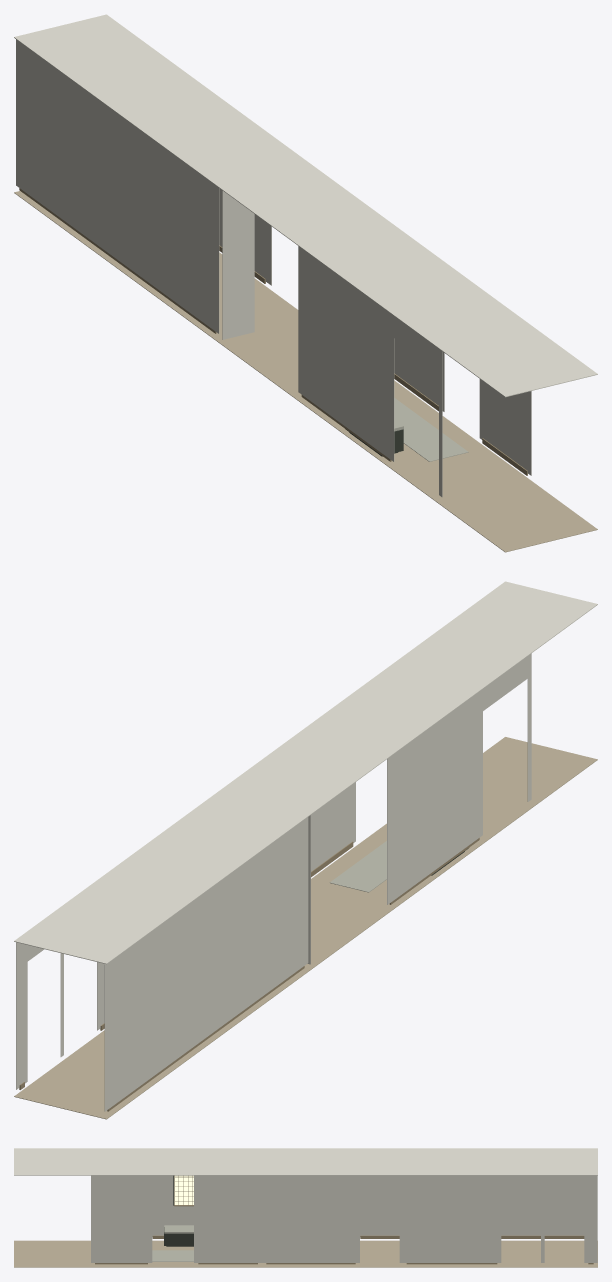
The model's file is corridor-2.glb.
The picture shows the model from 3 angles, top to bottom: view 1: azimuth 30°, elevation 25°; view 2: azimuth 150°, elevation 25°; view 3: azimuth 270°, elevation 25°; orthographic projection. The views are drawn at different scales.
Parts seen in each view (by area): view 1: DESIGN | Entrance coordinated ceiling, DESIGN | Entrance paired wall finish, DESIGN | Entrance floor finish, DESIGN | Entrance paired wall finish.003, DESIGN | Arch approach finish, DESIGN | Entrance paired wall finish.013, DESIGN | Entrance quiet runner, DESIGN | Entrance paired wall finish.012, DESIGN | Entrance paired wall finish.006, DESIGN | Entrance paired wall finish.002; view 2: DESIGN | Entrance coordinated ceiling, DESIGN | Entrance paired wall finish, DESIGN | Entrance floor finish, DESIGN | Entrance paired wall finish.003, DESIGN | Entrance paired wall finish.012, DESIGN | Entrance paired wall finish.005, DESIGN | Entrance quiet runner, DESIGN | Entrance paired wall finish.002, DESIGN | Entrance paired wall finish.001; view 3: DESIGN | Entrance coordinated ceiling, DESIGN | Entrance paired wall finish.006, DESIGN | Entrance paired wall finish.009, DESIGN | Entrance floor finish, DESIGN | Entrance paired wall finish.012, DESIGN | Entrance paired wall finish, DESIGN | Entrance paired wall finish.013, DESIGN | Entrance paired wall finish.003, DESIGN | Entrance paired wall finish.005, DESIGN | Entrance paired wall finish.007, DESIGN | Entrance paired wall finish.010, DESIGN | Entrance paired wall finish.004 (+8 smaller).
Boxes of the visible parts, left/top/right/bottom form: DESIGN | Entrance coordinated ceiling: left=14, top=14, right=597, bottom=397; DESIGN | Entrance paired wall finish: left=16, top=39, right=219, bottom=333; DESIGN | Entrance floor finish: left=14, top=191, right=597, bottom=552; DESIGN | Entrance paired wall finish.003: left=298, top=246, right=394, bottom=461; DESIGN | Arch approach finish: left=222, top=190, right=254, bottom=339; DESIGN | Entrance paired wall finish.013: left=479, top=379, right=531, bottom=475; DESIGN | Entrance quiet runner: left=394, top=398, right=468, bottom=461; DESIGN | Entrance paired wall finish.012: left=394, top=339, right=444, bottom=411; DESIGN | Entrance paired wall finish.006: left=219, top=188, right=268, bottom=283; DESIGN | Entrance paired wall finish.002: left=394, top=316, right=438, bottom=370; DESIGN | Entrance coordinated ceiling: left=14, top=581, right=597, bottom=964; DESIGN | Entrance paired wall finish: left=104, top=817, right=308, bottom=1111; DESIGN | Entrance floor finish: left=14, top=737, right=597, bottom=1119; DESIGN | Entrance paired wall finish.003: left=387, top=689, right=482, bottom=904; DESIGN | Entrance paired wall finish.012: left=311, top=782, right=355, bottom=871; DESIGN | Entrance paired wall finish.005: left=16, top=942, right=27, bottom=1089; DESIGN | Entrance quiet runner: left=329, top=841, right=386, bottom=892; DESIGN | Entrance paired wall finish.002: left=483, top=656, right=527, bottom=710; DESIGN | Entrance paired wall finish.001: left=527, top=653, right=531, bottom=801; DESIGN | Entrance coordinated ceiling: left=14, top=1148, right=597, bottom=1175; DESIGN | Entrance paired wall finish.006: left=402, top=1175, right=501, bottom=1262; DESIGN | Entrance paired wall finish.009: left=262, top=1175, right=359, bottom=1262; DESIGN | Entrance floor finish: left=14, top=1240, right=597, bottom=1267; DESIGN | Entrance paired wall finish.012: left=194, top=1175, right=262, bottom=1262; DESIGN | Entrance paired wall finish: left=360, top=1176, right=584, bottom=1236; DESIGN | Entrance paired wall finish.013: left=91, top=1175, right=152, bottom=1262; DESIGN | Entrance paired wall finish.003: left=152, top=1175, right=193, bottom=1236; DESIGN | Entrance paired wall finish.005: left=584, top=1175, right=597, bottom=1262; DESIGN | Entrance paired wall finish.007: left=501, top=1175, right=540, bottom=1191; DESIGN | Entrance paired wall finish.010: left=360, top=1175, right=399, bottom=1191; DESIGN | Entrance paired wall finish.004: left=545, top=1175, right=584, bottom=1191.
Bounding box in the file's own units: 1.7 × 2.73 × 15.61.
